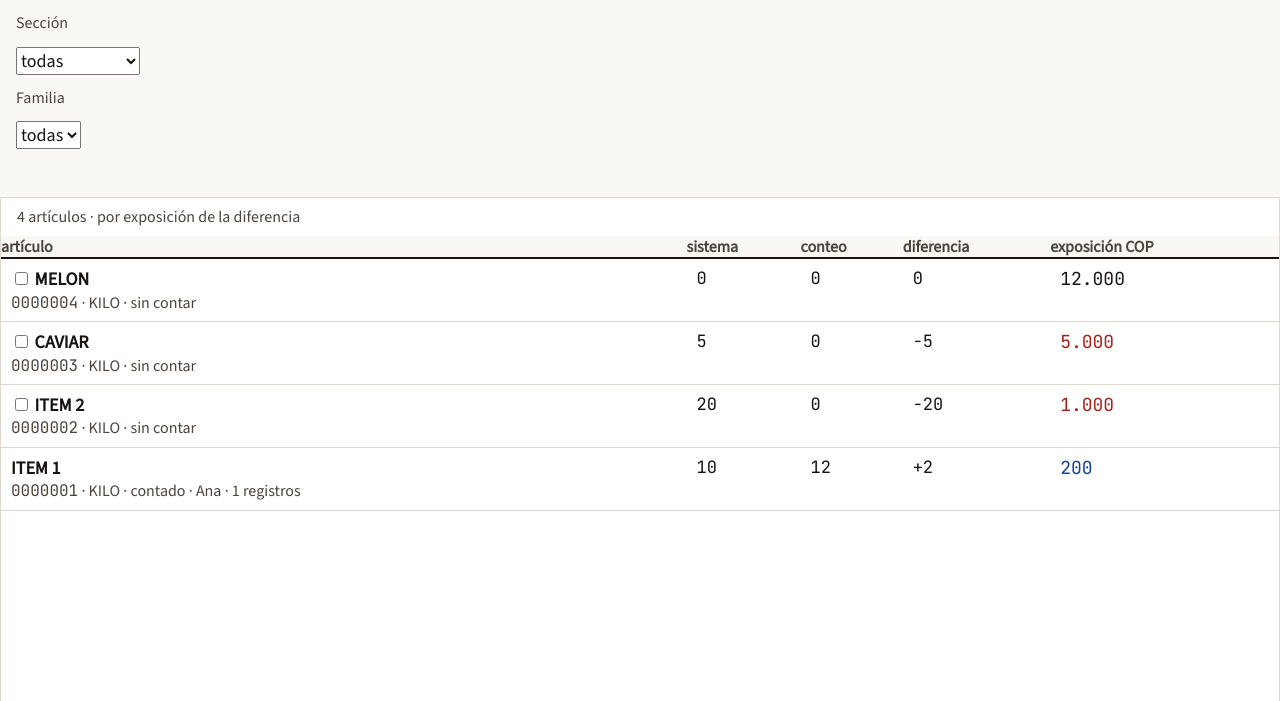
the two figures, and when the second one earns its place (§2a, §4.2) › waiving lowers pendiente and leaves sinVerificar exactly where it was
(page scrolled)
# Waive CAVIAR — 5 000 of the 18 000.
Click the checkbox named "elegir CAVIAR" at x=22, y=342, box [15,335,28,348]
(page scrolled)
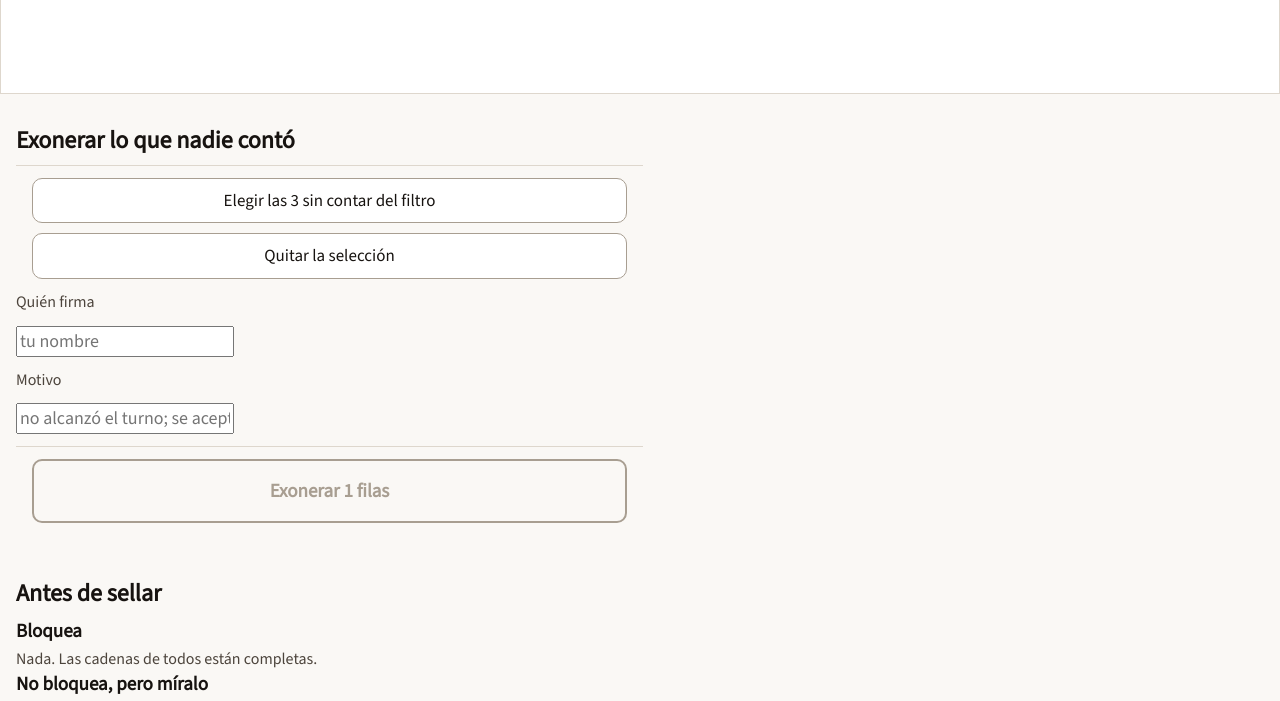
Type "marta" into the field labelled "Quién firma" at x=125, y=341, box [16,326,234,357]
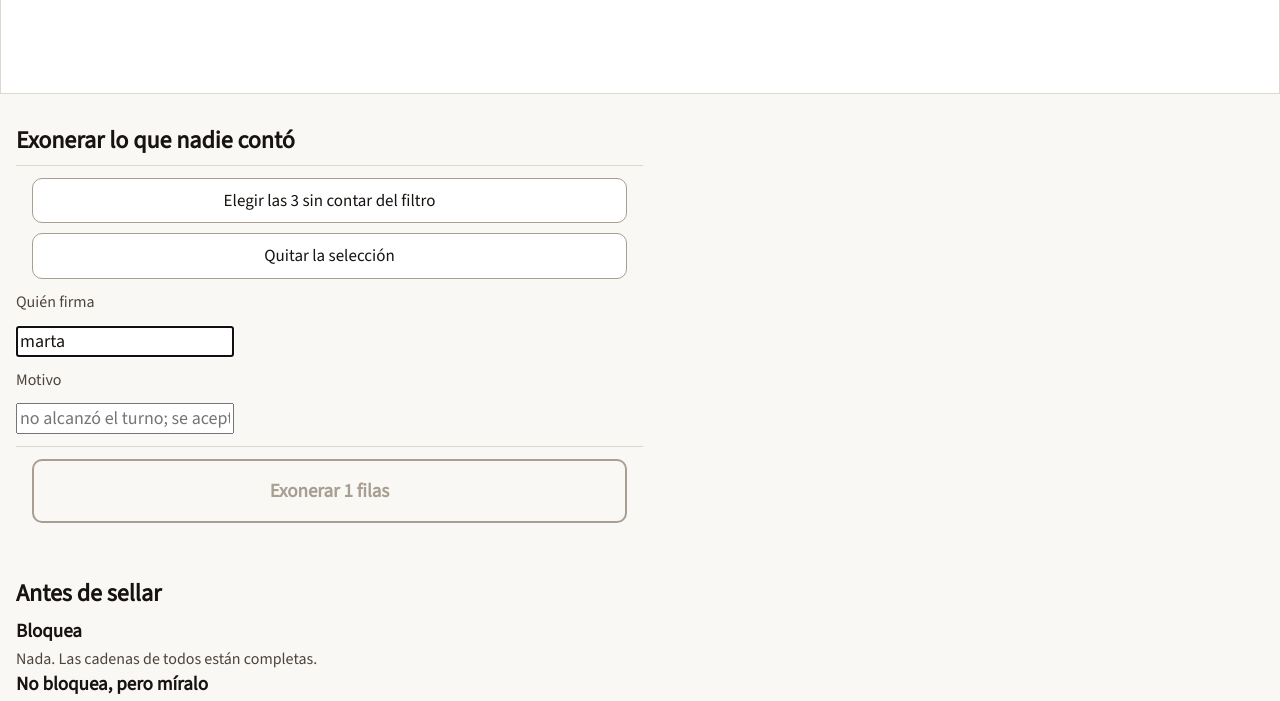
Type "no alcanzó el turno" into the field labelled "Motivo" at x=125, y=419, box [16,403,234,434]
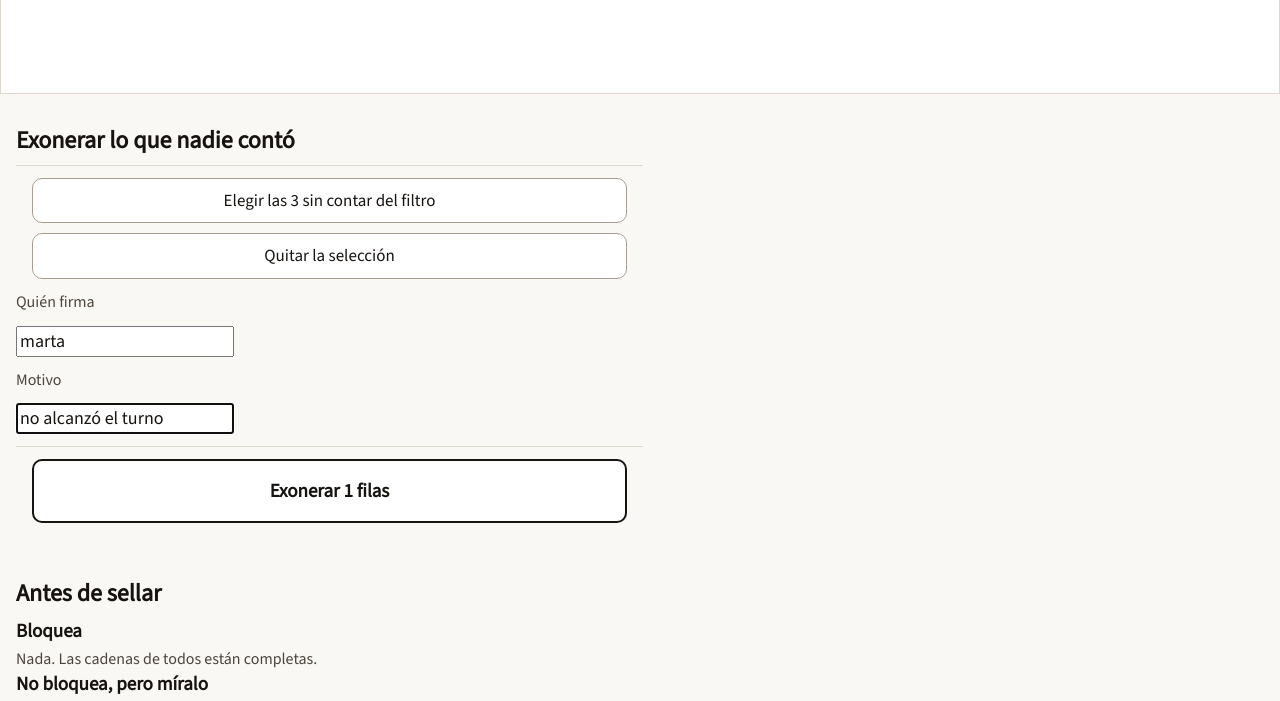
Click the button "Exonerar 1 filas" at x=330, y=491, box [32,459,627,523]
(page scrolled)
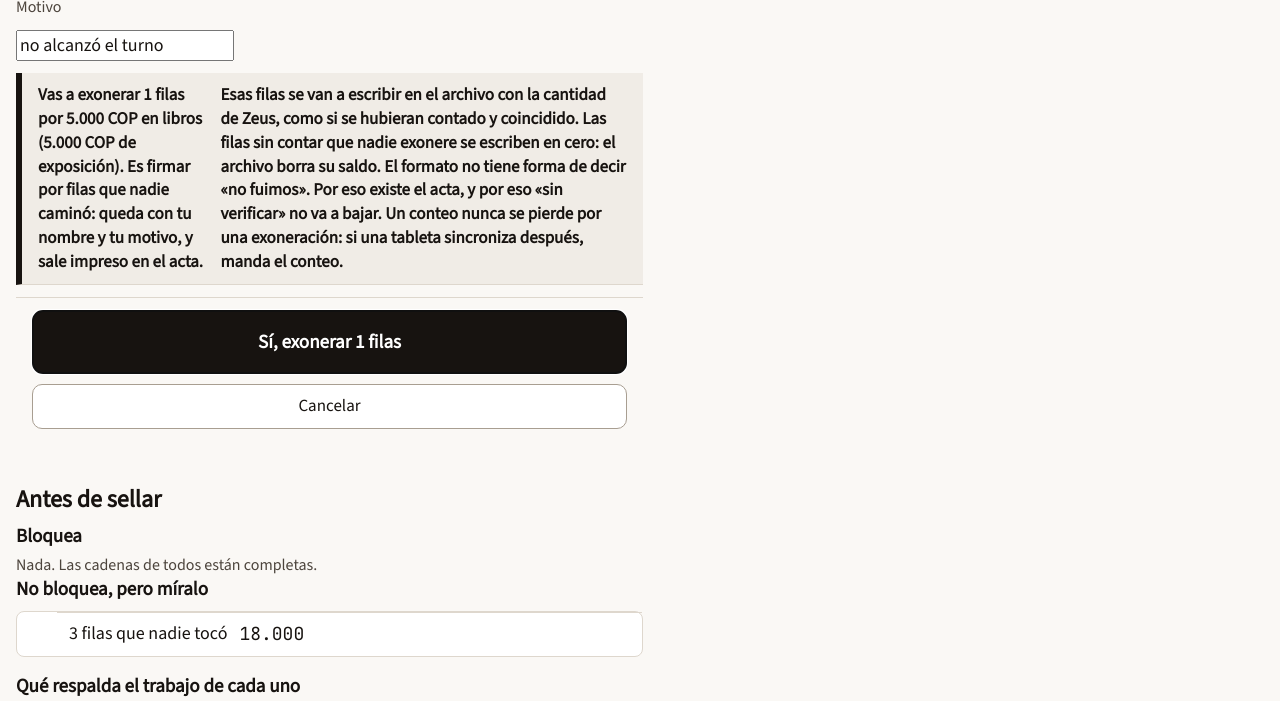
Click the button "Sí, exonerar 1 filas" at x=330, y=342, box [32,310,627,374]
(page scrolled)
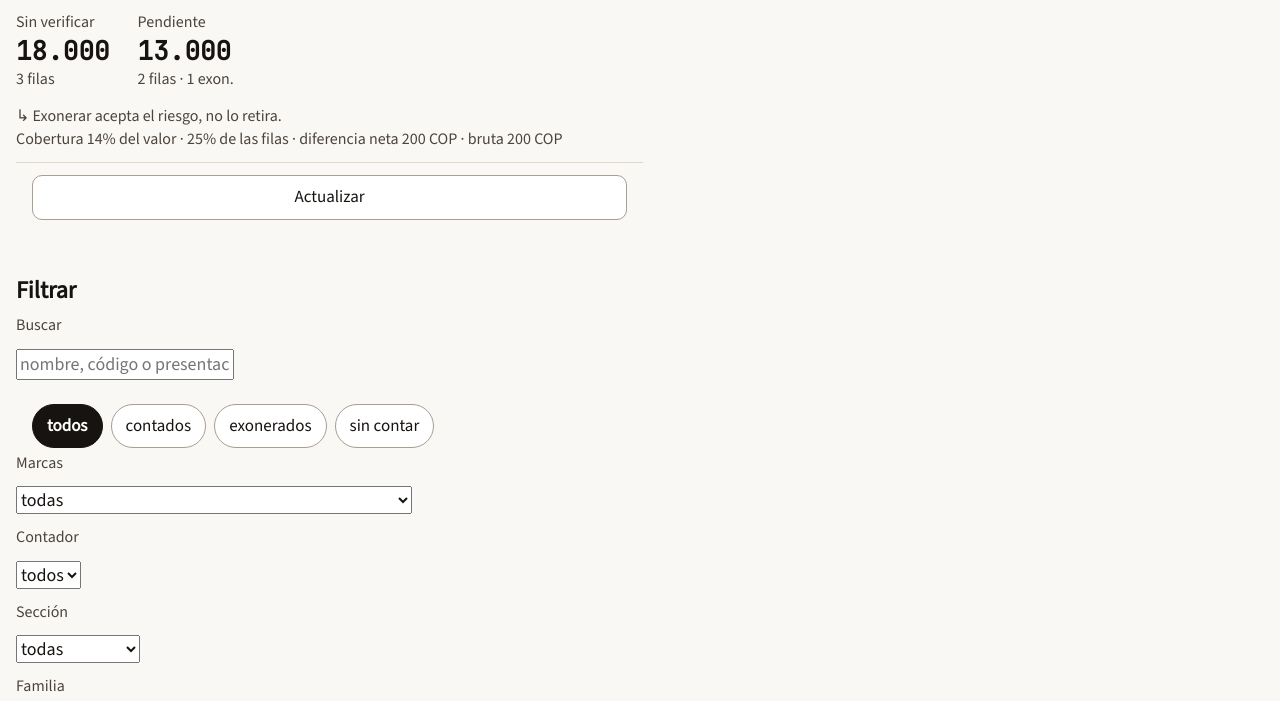
Expected: the text "Pendiente" is shown, [138,11,206,32]
Expected: the text "2 filas · 1 exon." is shown, [138,68,234,89]
Expected: the text "↳ Exonerar acepta el riesgo, no lo retira." is shown, [16,105,282,126]
